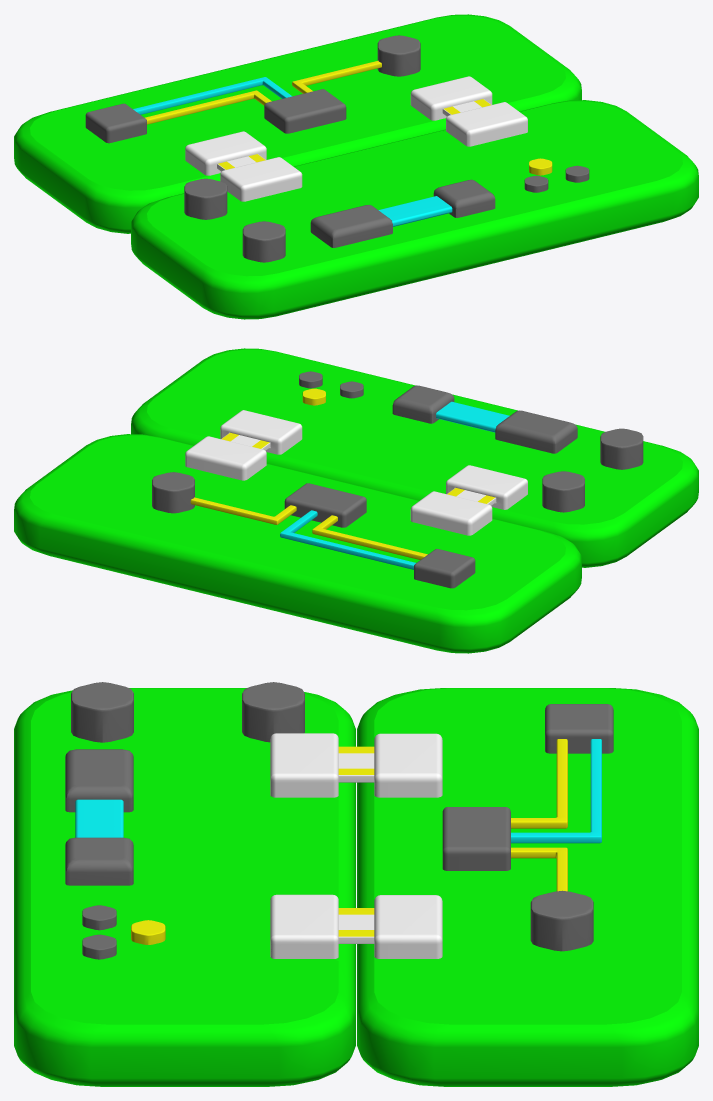
File: CircuitB2.fbx
The picture shows the model from 3 angles, top to bottom: view 1: azimuth 30°, elevation 25°; view 2: azimuth 150°, elevation 25°; view 3: azimuth 270°, elevation 25°; orthographic projection. The views are drawn at different scales.
Visible parts, largest first — view 1: pCube94, pCube95, pCylinder180, pCylinder179, pCylinder182, pCube97, pCube92, pCube96, pCube93; view 2: pCube95, pCube94, pCylinder180, pCylinder179, pCylinder182, pCube97, pCube92, pCube96, pCube93; view 3: pCube95, pCube94, pCylinder182, pCylinder180, pCylinder179, pCube97, pCube92, pCube96, pCube93, pCylinder181, pCylinder178, pCylinder177.
Boxes of the visible parts, x1,y1,x2,y2 form: pCube94: [131, 100, 698, 319]; pCube95: [14, 14, 581, 233]; pCylinder180: [242, 221, 285, 262]; pCylinder179: [184, 178, 227, 219]; pCylinder182: [377, 35, 420, 76]; pCube97: [133, 77, 292, 114]; pCube92: [378, 196, 452, 226]; pCube96: [145, 90, 271, 124]; pCube93: [292, 60, 381, 93]; pCube95: [14, 432, 581, 653]; pCube94: [131, 348, 698, 567]; pCylinder180: [600, 428, 643, 469]; pCylinder179: [542, 471, 584, 512]; pCylinder182: [152, 472, 194, 513]; pCube97: [280, 510, 415, 569]; pCube92: [436, 401, 509, 432]; pCube96: [312, 515, 427, 559]; pCube93: [190, 497, 296, 524]; pCube95: [338, 688, 698, 1086]; pCube94: [14, 688, 355, 1086]; pCylinder182: [530, 890, 593, 951]; pCylinder180: [71, 682, 133, 742]; pCylinder179: [242, 682, 304, 742]; pCube97: [511, 739, 601, 843]; pCube92: [75, 799, 123, 837]; pCube96: [511, 739, 567, 828]; pCube93: [511, 847, 567, 891]; pCylinder181: [82, 934, 116, 959]; pCylinder178: [82, 905, 116, 930]; pCylinder177: [131, 920, 165, 944].
Size of the model in its own units: 85 by 10.73 by 70.13.
